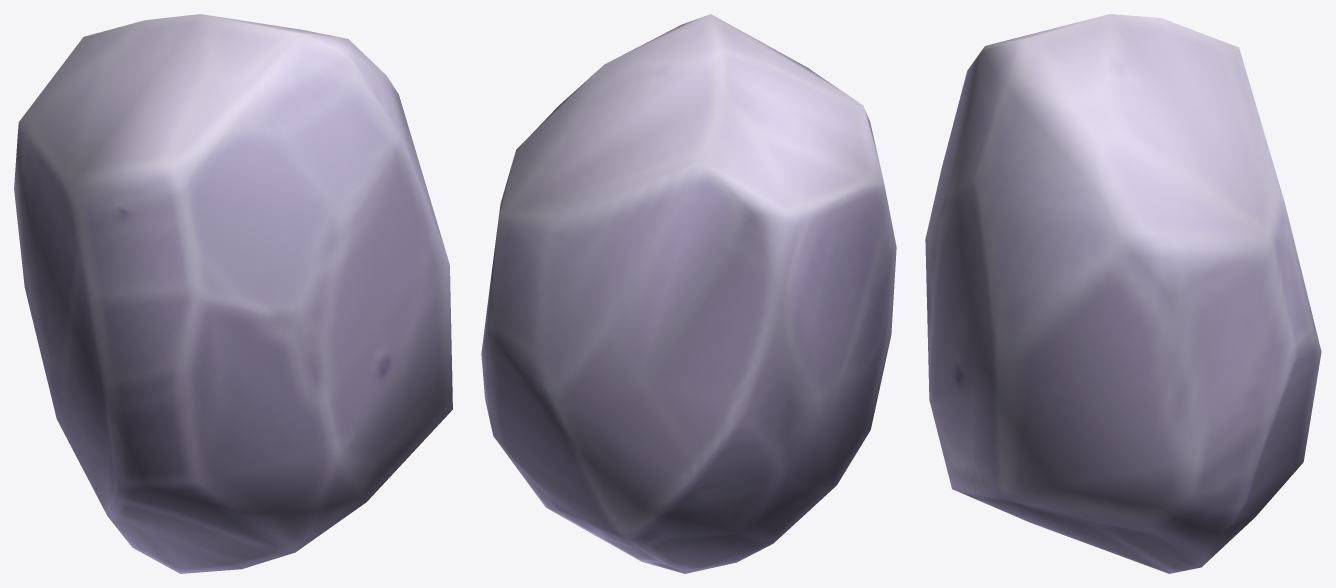
File: SM_Gem_Diamond_005.fbx
The picture shows the model from 3 angles, left to right: view 1: azimuth 30°, elevation 25°; view 2: azimuth 150°, elevation 25°; view 3: azimuth 270°, elevation 25°; orthographic projection. The views are drawn at different scales.
Parts seen in each view (by area): view 1: SM_Gem_Diamond_005; view 2: SM_Gem_Diamond_005; view 3: SM_Gem_Diamond_005.
Boxes of the visible parts, box(x1,y1,x2,y2) form: SM_Gem_Diamond_005: box(14, 14, 452, 573); SM_Gem_Diamond_005: box(481, 14, 896, 573); SM_Gem_Diamond_005: box(925, 14, 1321, 573).
Size of the model in its own units: 14.4 by 20.5 by 13.55.
